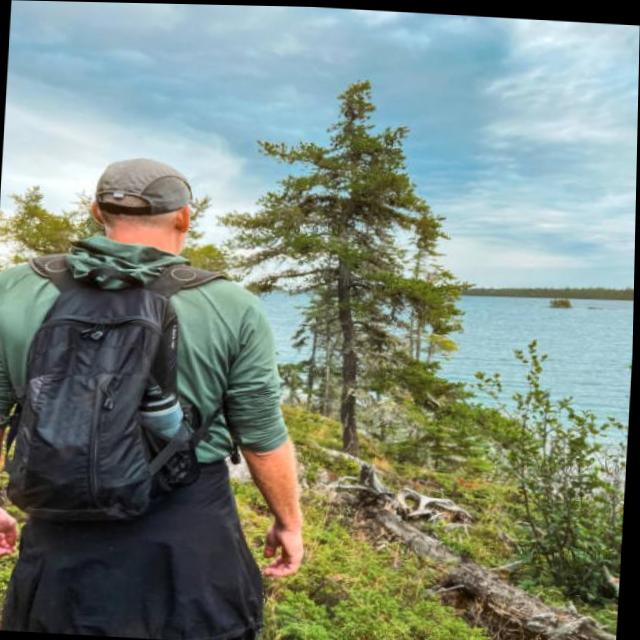no helmet: (86, 137, 208, 250)
